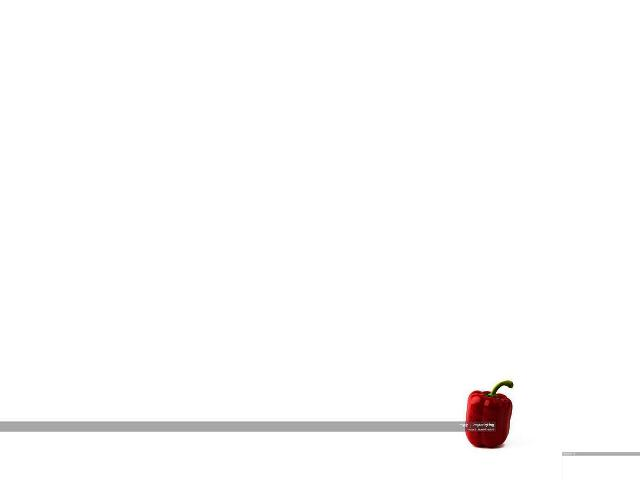bell_pepper: (461, 377, 519, 446)
